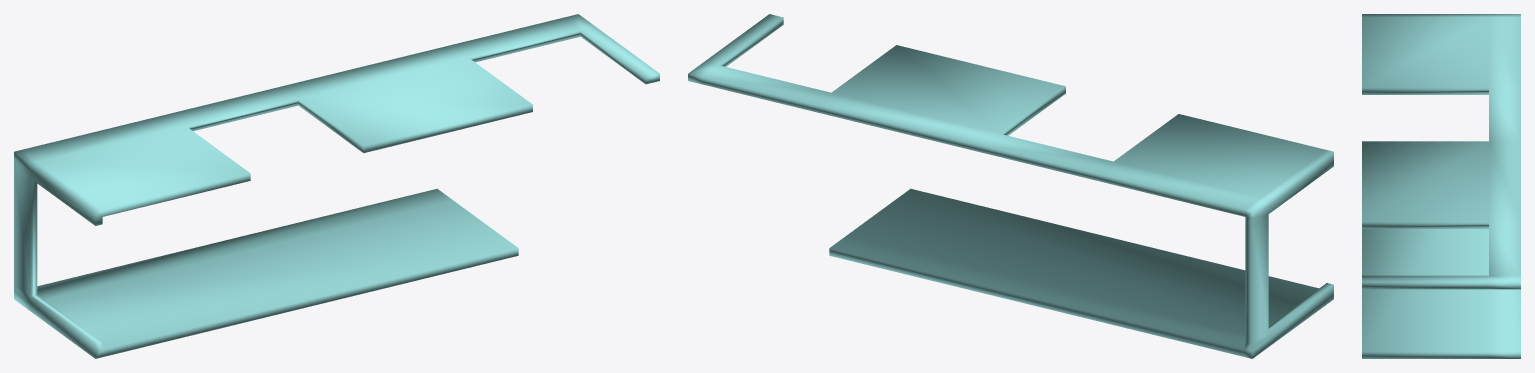
Rendered from wall_anteroom_v1.fbx.
3 renders of one model, left to right at view 1: azimuth 30°, elevation 25°; view 2: azimuth 150°, elevation 25°; view 3: azimuth 270°, elevation 25°, orthographic. The views are drawn at different scales.
Parts seen in each view (by area): view 1: Cube.001; view 2: Cube.001; view 3: Cube.001.
Part boxes in pixels (x1,y1,x2,y2): Cube.001: [14, 14, 659, 358]; Cube.001: [688, 14, 1333, 358]; Cube.001: [1362, 14, 1520, 358].
Size of the model in its own units: 0.04 by 0.01 by 0.01.
